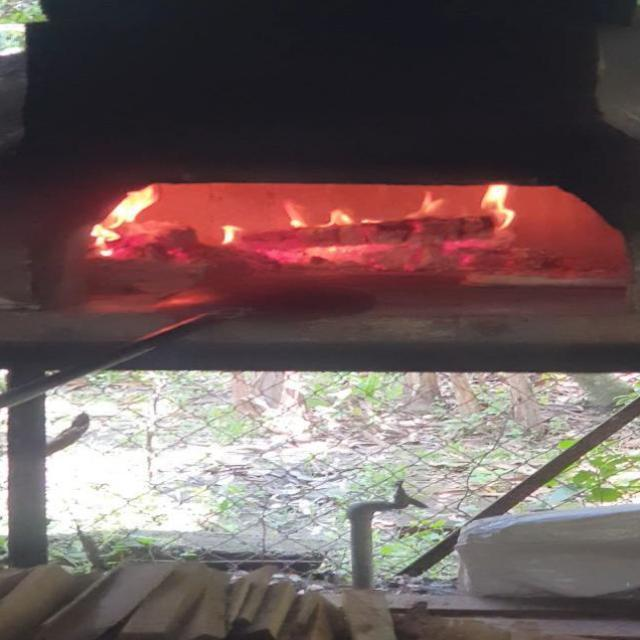smoke: (100, 173, 162, 264), (471, 182, 544, 237), (397, 184, 457, 222), (277, 197, 311, 236), (322, 201, 357, 235), (220, 218, 242, 252)
